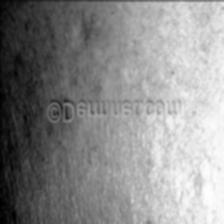Non-Cancerous Skin Condition: (50, 126, 220, 224), (60, 0, 188, 86)
